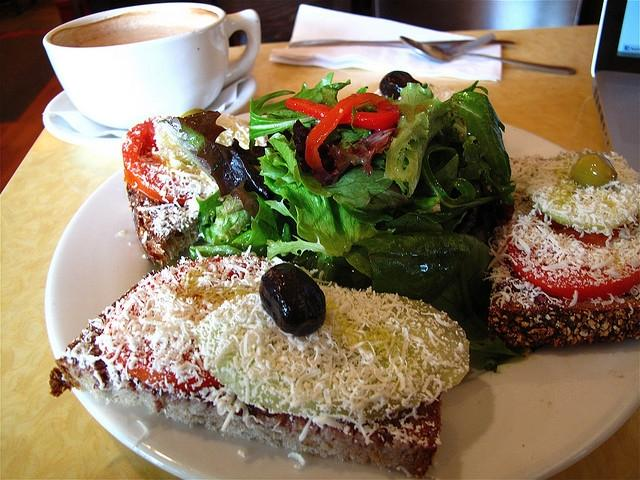bell pepper: (304, 92, 394, 169), (285, 97, 399, 131)
tomato: (108, 254, 264, 394), (508, 227, 640, 301), (122, 120, 170, 200)
